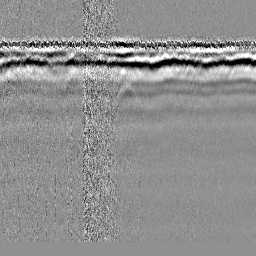cavity: (114, 81, 138, 107)
